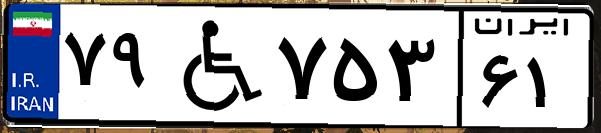1: (525, 38, 570, 115)
3: (385, 28, 445, 110)
5: (330, 28, 385, 110)
6: (475, 38, 525, 113)
7: (270, 28, 330, 110), (57, 26, 110, 100)
9: (110, 28, 158, 98)
ژ (معلولین و جانبازان): (158, 12, 270, 120)
